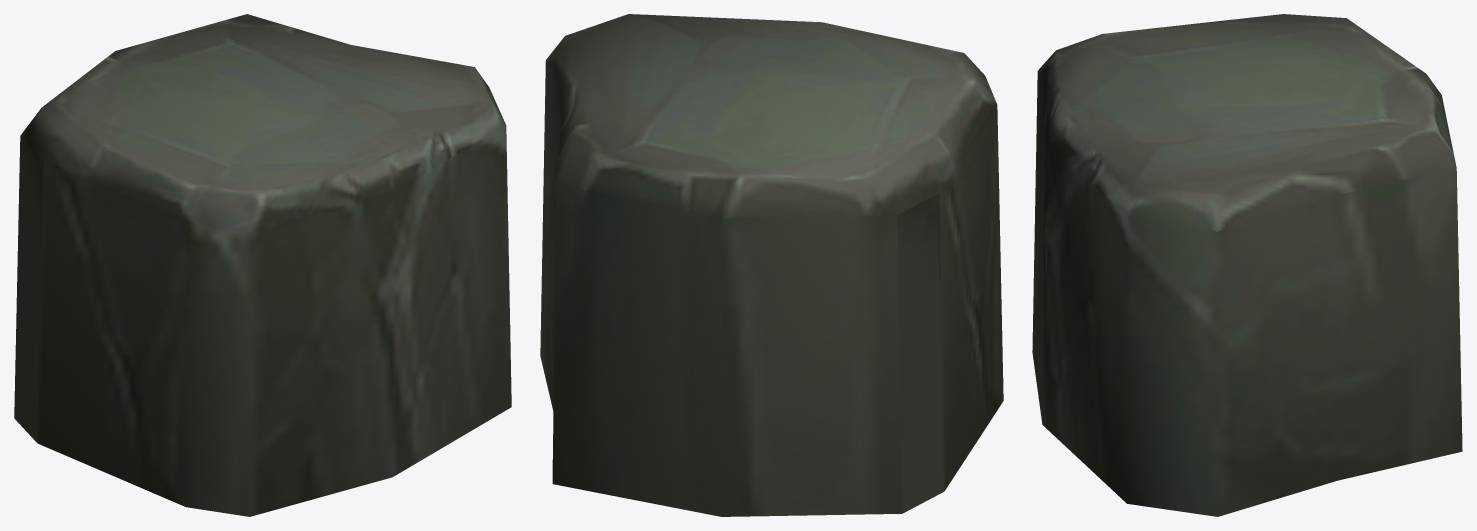
Rendered from 0070_HT_MJ_ShiTou11.glb.
3 renders of one model, left to right at view 1: azimuth 30°, elevation 25°; view 2: azimuth 150°, elevation 25°; view 3: azimuth 270°, elevation 25°, orthographic. The views are drawn at different scales.
Bounding box in the file's own units: 2.2 × 1.54 × 1.94.
Materials: 1 (1 with a texture image).
